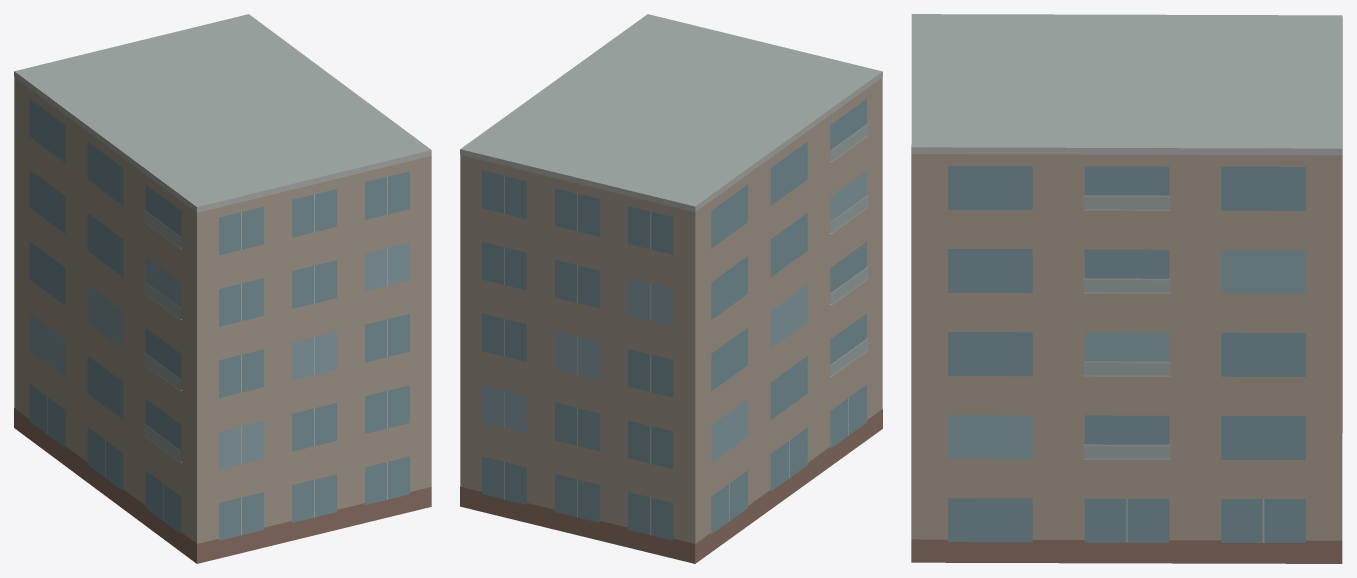
Rendered from survey-upis-32631061.glb.
The picture shows the model from 3 angles, left to right: view 1: azimuth 30°, elevation 25°; view 2: azimuth 150°, elevation 25°; view 3: azimuth 270°, elevation 25°; orthographic projection. The views are drawn at different scales.
Visible parts, largest first — view 1: survey-upis-32631061.tmp; view 2: survey-upis-32631061.tmp; view 3: survey-upis-32631061.tmp.
Part boxes in pixels (x1,y1,x2,y2): survey-upis-32631061.tmp: (14,14,431,563); survey-upis-32631061.tmp: (460,14,882,563); survey-upis-32631061.tmp: (911,14,1342,563).
Bounding box in the file's own units: 10.64 × 15.25 × 14.36.
